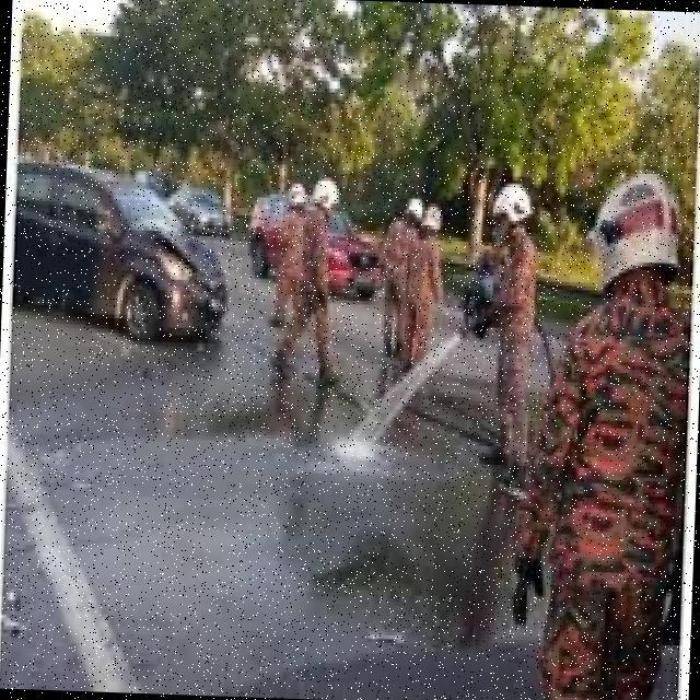Accident: (98, 169, 248, 360)
